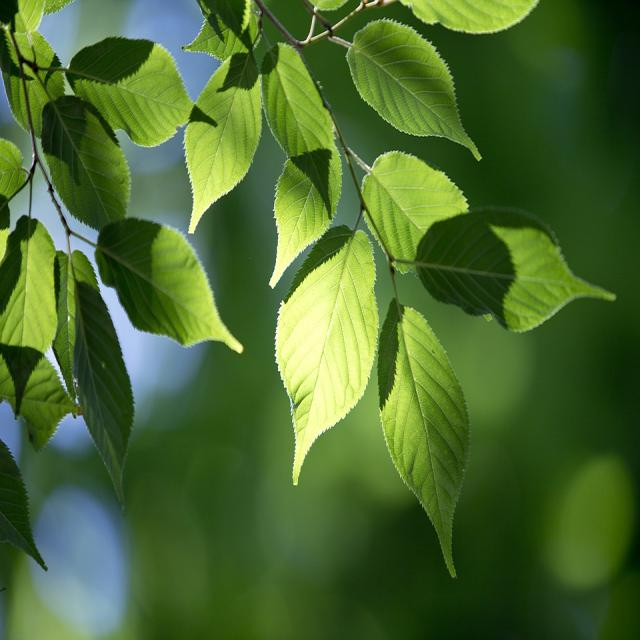green waste: (0, 0, 638, 639)
